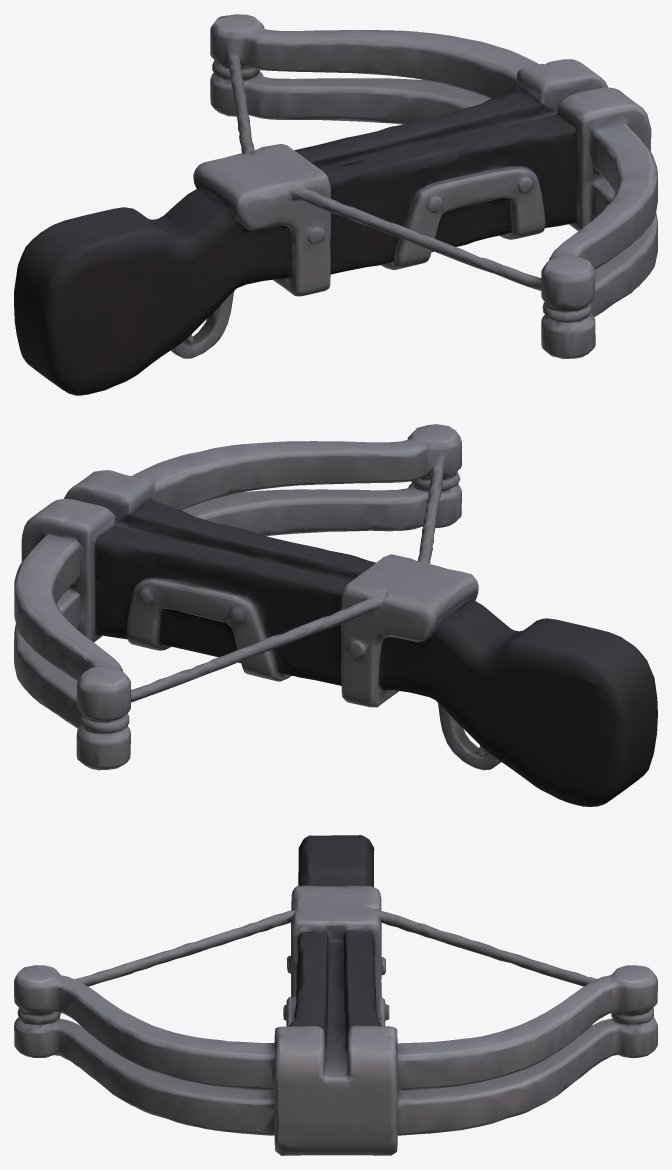
File: Arm_repeater-S7XKTLoj.glb
3 views of the same model, one above another, from view 1: azimuth 30°, elevation 25°; view 2: azimuth 150°, elevation 25°; view 3: azimuth 270°, elevation 25° (orthographic). The views are drawn at different scales.
Parts seen in each view (by area): view 1: Arm_repeater; view 2: Arm_repeater; view 3: Arm_repeater.
Part boxes in pixels (x1,y1,x2,y2): Arm_repeater: (14,14,657,395); Arm_repeater: (14,424,657,806); Arm_repeater: (14,835,657,1155).
Size of the model in its own units: 0.9 by 0.2601 by 0.9455.
1 material, 1 textured.
